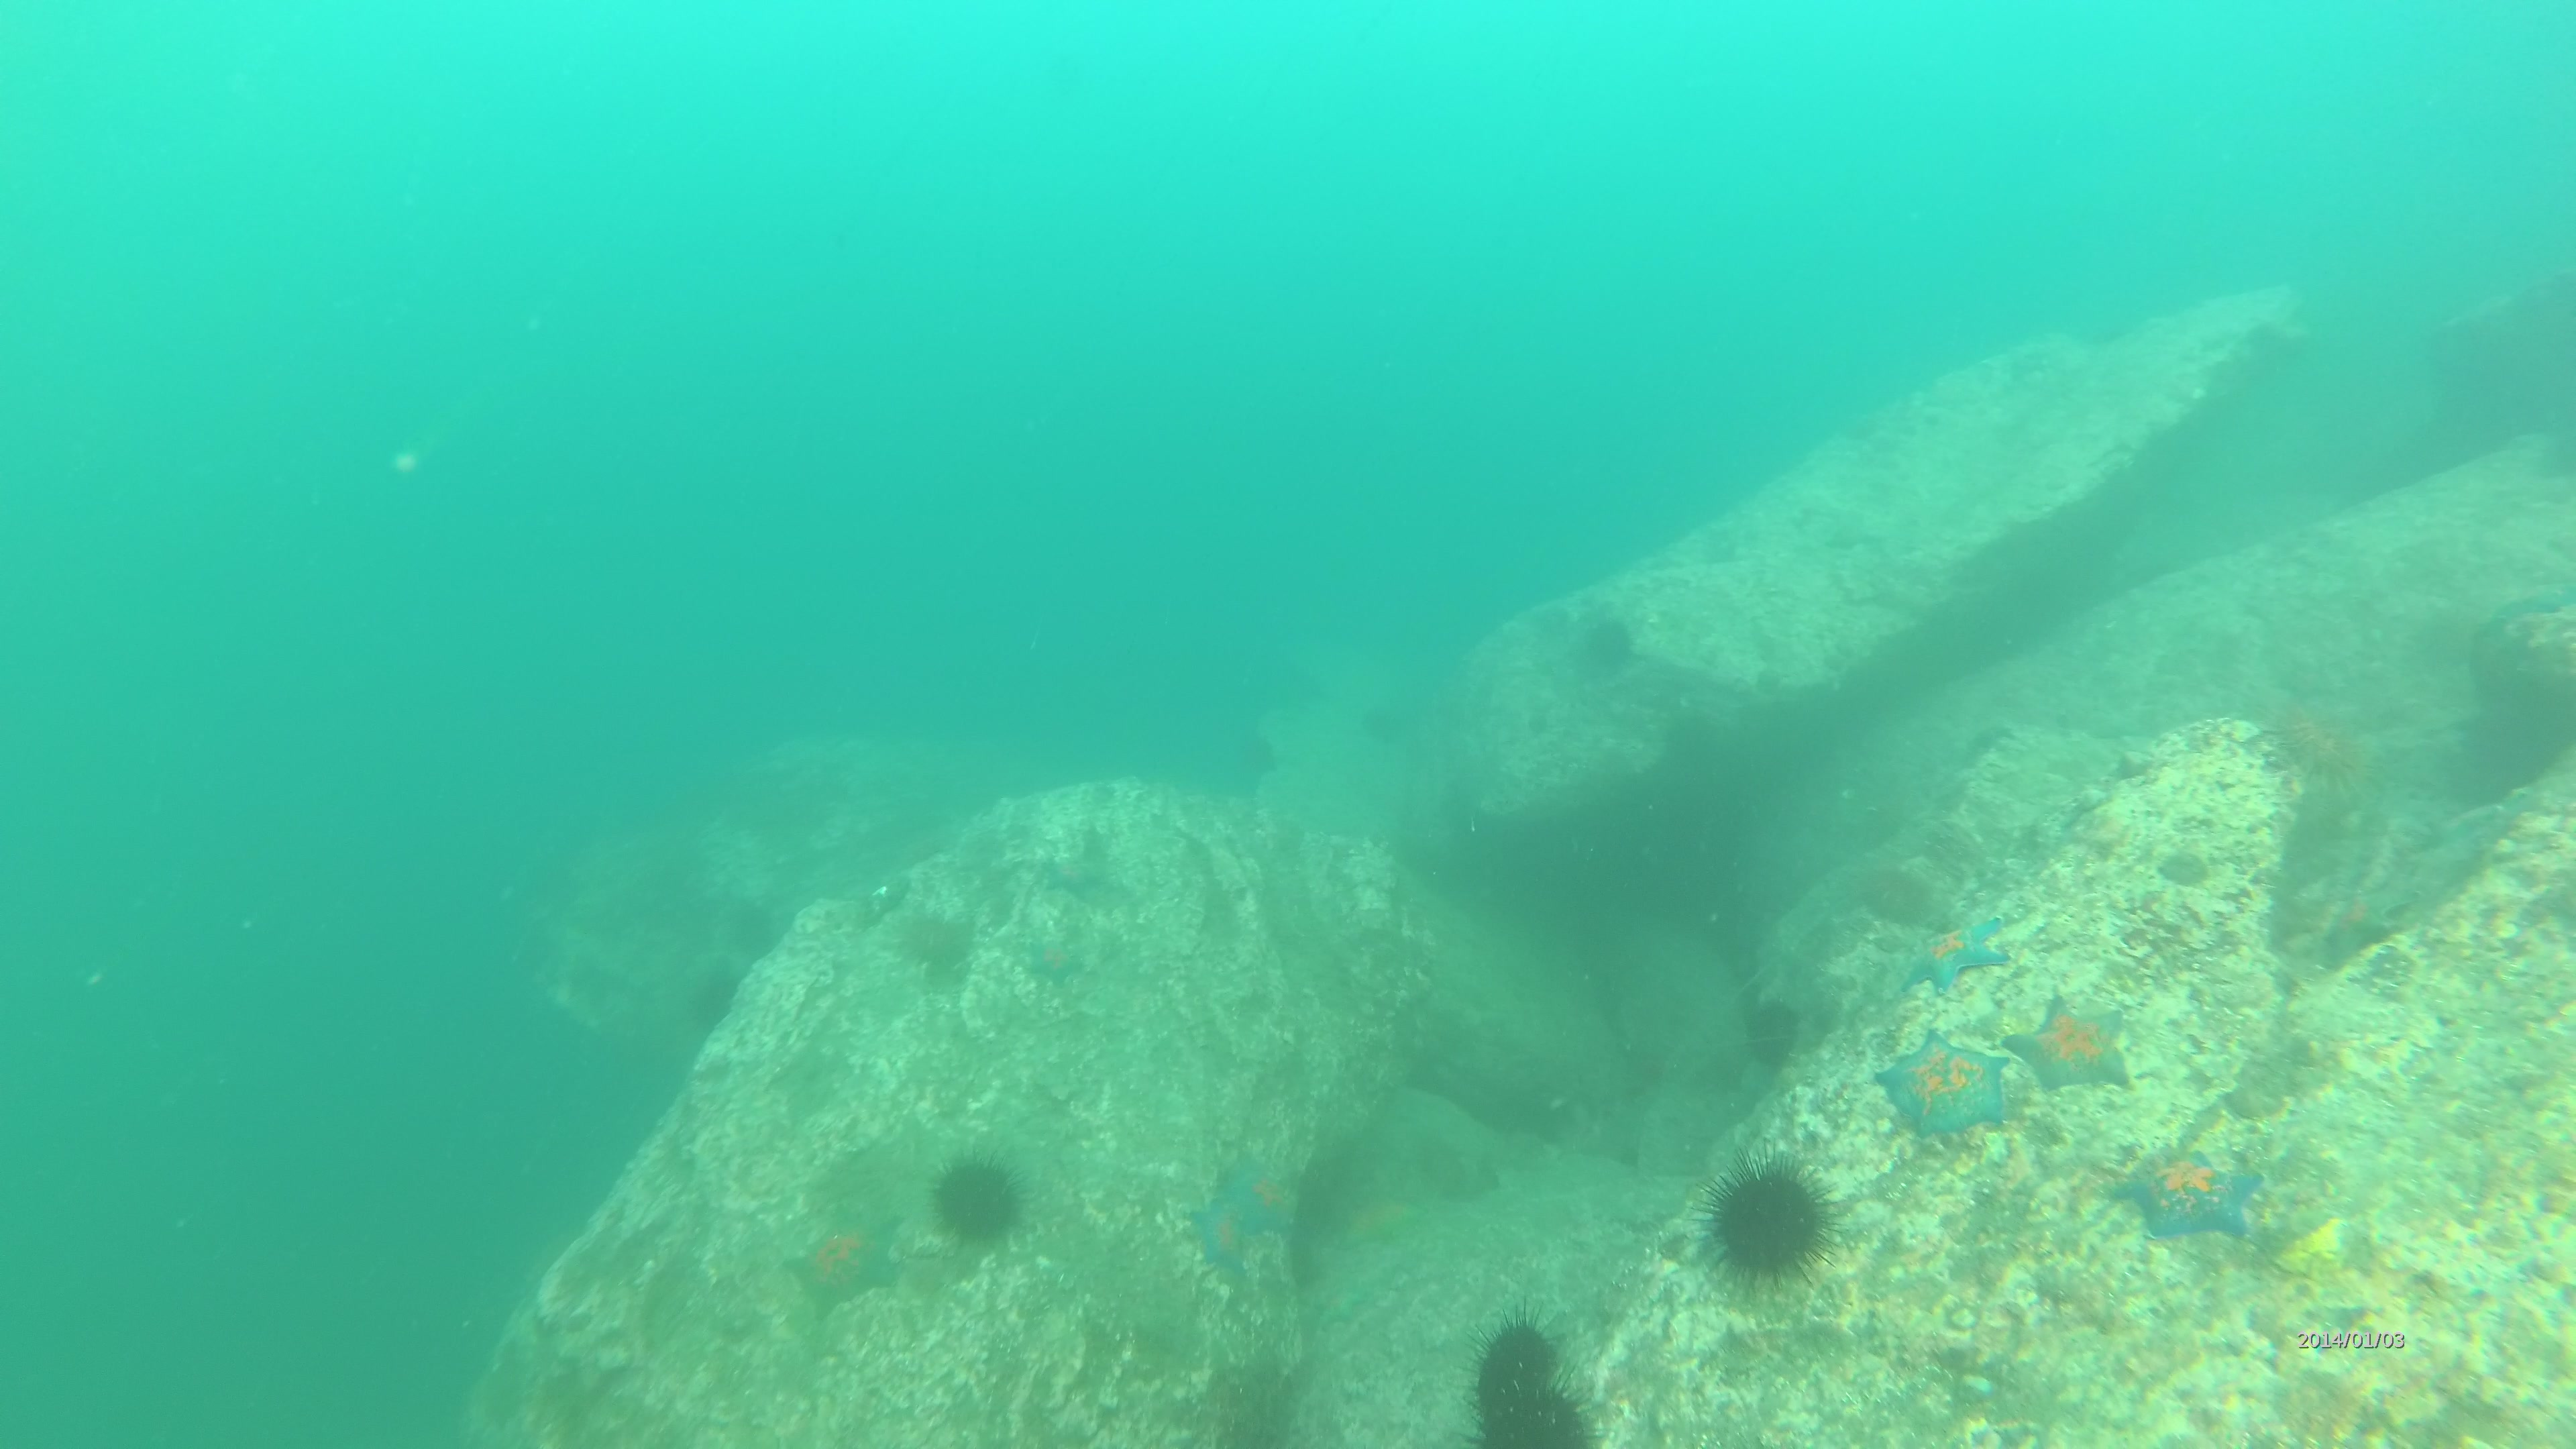echinus: (1697, 1155, 1838, 1297), (1461, 1304, 1564, 1394), (1476, 1376, 1599, 1449), (924, 1161, 1021, 1246), (2270, 692, 2360, 780), (1744, 993, 1810, 1070), (901, 918, 971, 973)
starfish: (1870, 1026, 2006, 1150), (2120, 1141, 2261, 1242), (2010, 985, 2130, 1092), (784, 1214, 911, 1304), (1898, 913, 2010, 991), (1215, 1148, 1302, 1235), (2325, 890, 2415, 971), (1184, 1200, 1251, 1274), (1021, 934, 1090, 987)
